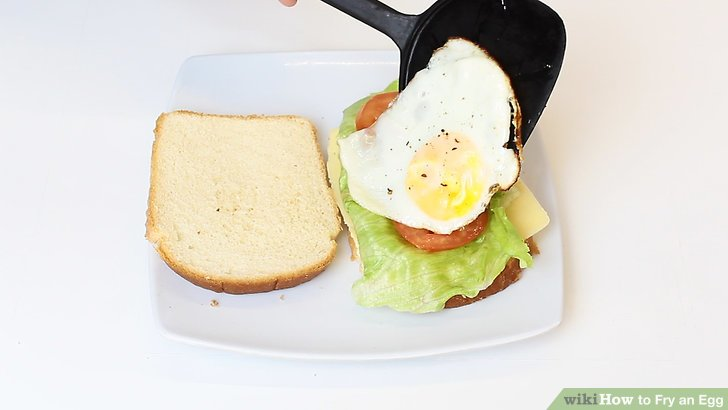chopped lettuce: (347, 206, 531, 314)
fried egg: (361, 51, 514, 221)
slice of bread: (148, 107, 340, 292)
